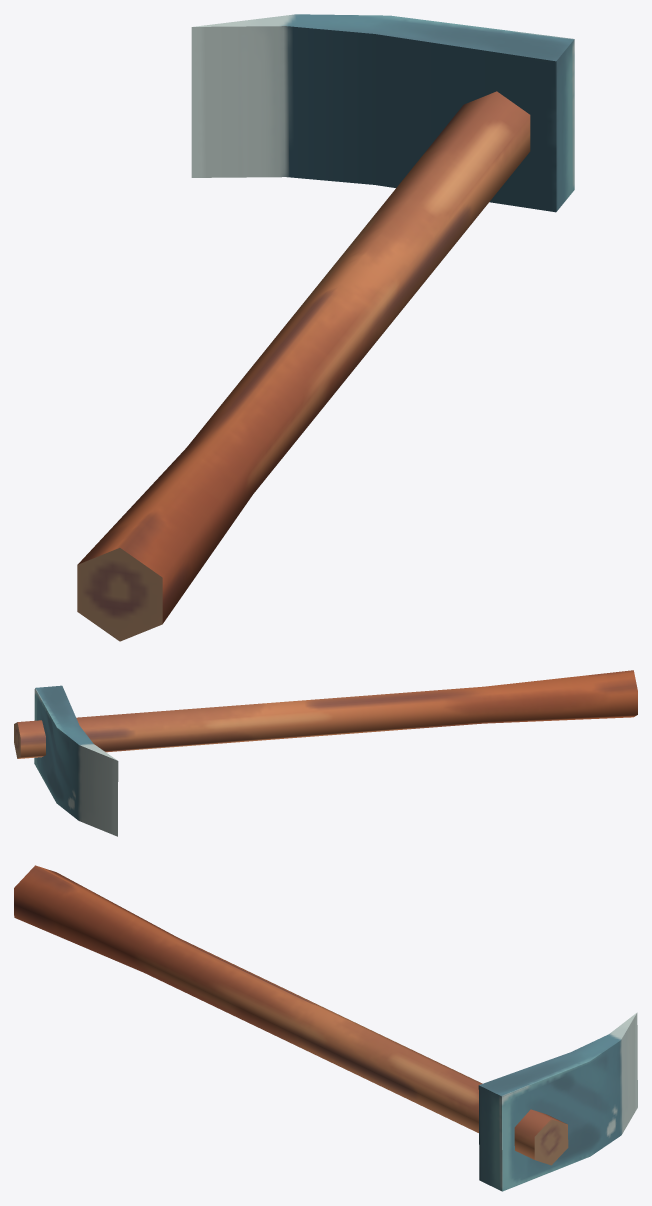
File: hoe.fbx
The picture shows the model from 3 angles, top to bottom: view 1: azimuth 30°, elevation 25°; view 2: azimuth 150°, elevation 25°; view 3: azimuth 270°, elevation 25°; orthographic projection. The views are drawn at different scales.
Visible parts, largest first — view 1: hoe; view 2: hoe; view 3: hoe.
Part boxes in pixels (x1=…): hoe: x1=77, y1=14, x2=574, y2=641; hoe: x1=14, y1=670, x2=637, y2=836; hoe: x1=14, y1=865, x2=637, y2=1191.
Size of the model in its own units: 0.9625 by 0.1606 by 0.9555.
1 material, 1 textured.
